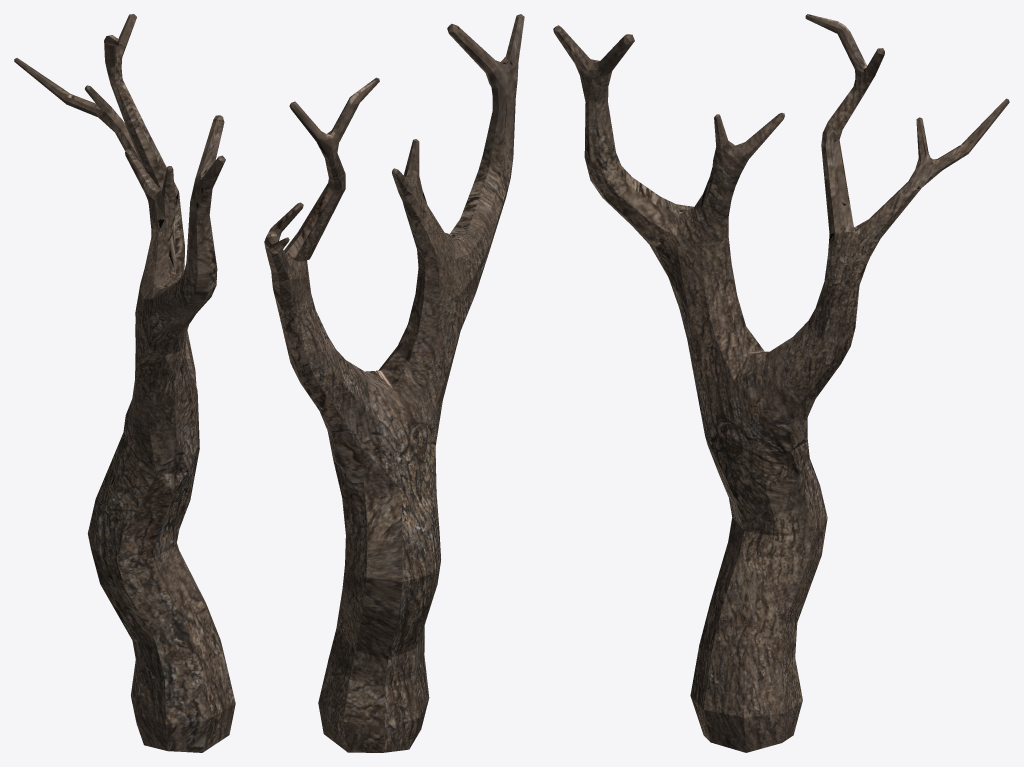
File: tree1.obj
3 views of the same model, side by side, from view 1: azimuth 30°, elevation 25°; view 2: azimuth 150°, elevation 25°; view 3: azimuth 270°, elevation 25° (orthographic). The views are drawn at different scales.
Visible parts, largest first — view 1: Tree1_Cube.003; view 2: Tree1_Cube.003; view 3: Tree1_Cube.003.
Part boxes in pixels (x1,y1,x2,y2): Tree1_Cube.003: (14,14,235,752); Tree1_Cube.003: (264,14,524,752); Tree1_Cube.003: (553,14,1009,752).
Bounding box in the file's own units: 1.57 × 8.53 × 4.93.
